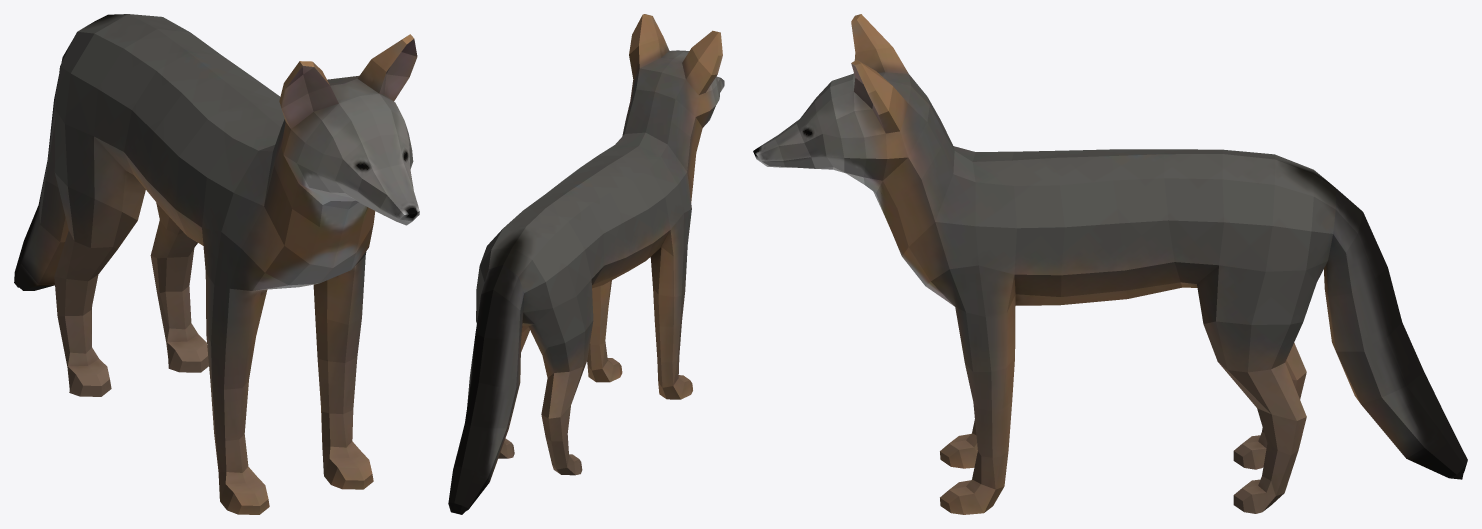
Rendered from animals-gray-fox-114.glb.
The picture shows the model from 3 angles, left to right: view 1: azimuth 30°, elevation 25°; view 2: azimuth 150°, elevation 25°; view 3: azimuth 270°, elevation 25°; orthographic projection. The views are drawn at different scales.
Visible parts, largest first — view 1: GrayFox_Mesh; view 2: GrayFox_Mesh; view 3: GrayFox_Mesh.
Boxes of the visible parts, left/top/right/bottom form: GrayFox_Mesh: left=14, top=14, right=419, bottom=514; GrayFox_Mesh: left=448, top=14, right=724, bottom=514; GrayFox_Mesh: left=753, top=14, right=1467, bottom=514.
Bounding box in the file's own units: 1.15 × 3.62 × 5.28.
1 material, 1 textured.
